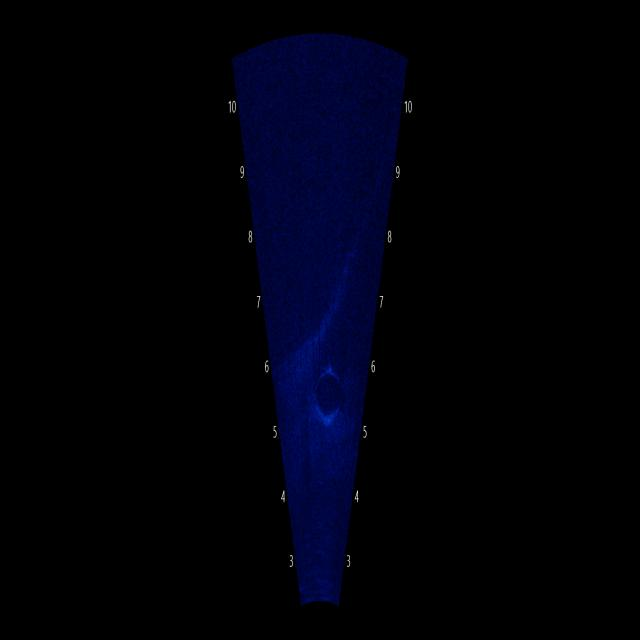circle: (310, 360, 353, 432)
